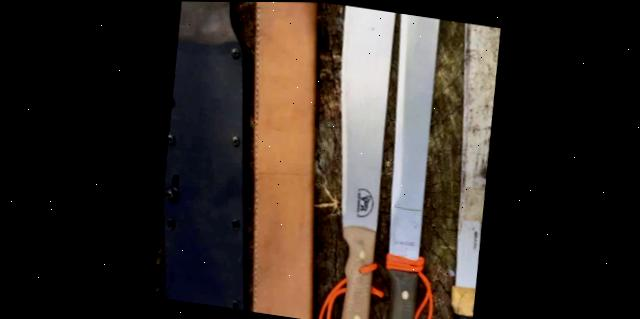long knife: (298, 3, 404, 319), (353, 11, 448, 319), (413, 19, 510, 319)
